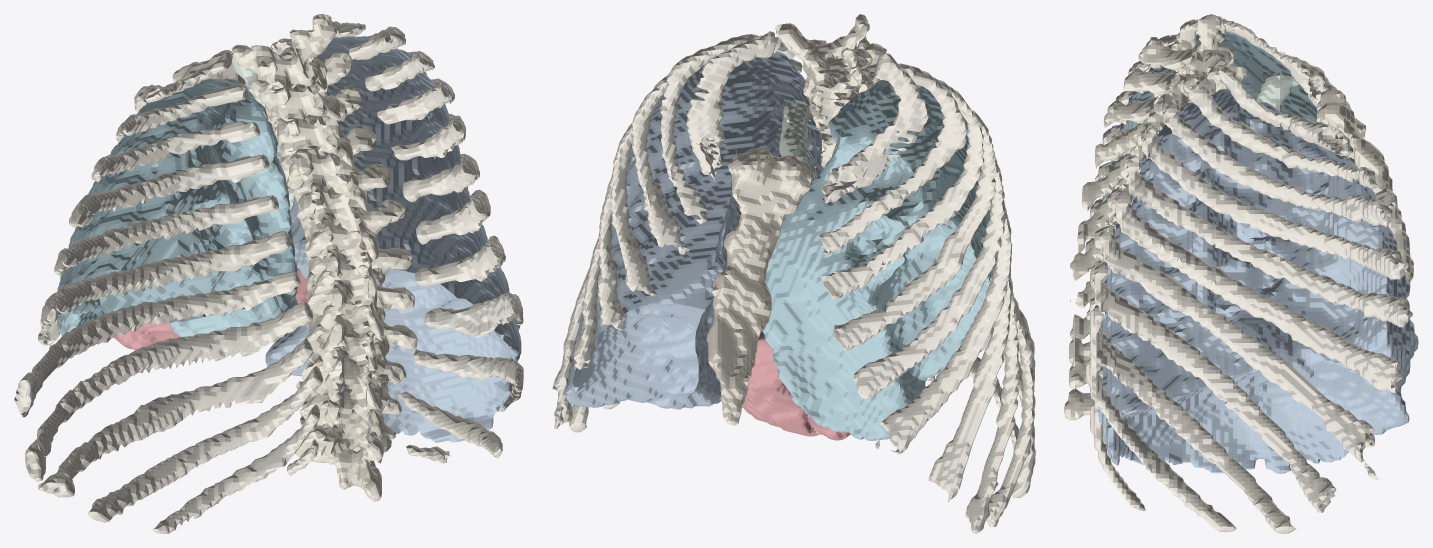
File: anatomy.glb
3 renders of one model, left to right at view 1: azimuth 30°, elevation 25°; view 2: azimuth 150°, elevation 25°; view 3: azimuth 270°, elevation 25°, orthographic. The views are drawn at different scales.
Parts seen in each view (by area): view 1: ribs, thoracic_spine, lung_right, lung_left, heart, sternum, trachea; view 2: ribs, lung_left, lung_right, sternum, thoracic_spine, heart, trachea; view 3: ribs, lung_right, thoracic_spine, sternum, lung_left, trachea.
Boxes of the visible parts, box(x1,y1,x2,y2) form: ribs: box(14, 21, 523, 533); thoracic_spine: box(231, 14, 417, 501); lung_right: box(248, 36, 521, 442); lung_left: box(57, 78, 297, 338); heart: box(113, 268, 309, 350); sternum: box(172, 50, 247, 86); trachea: box(231, 53, 294, 210); ribs: box(552, 31, 1035, 533); lung_left: box(762, 80, 995, 440); lung_right: box(564, 51, 823, 409); sternum: box(706, 146, 811, 425); thoracic_spine: box(775, 14, 886, 168); heart: box(741, 331, 850, 440); trachea: box(779, 100, 816, 181); ribs: box(1085, 14, 1412, 533); lung_right: box(1098, 89, 1418, 473); thoracic_spine: box(1064, 14, 1246, 420); sternum: box(1316, 88, 1413, 300); lung_left: box(1102, 31, 1354, 202); trachea: box(1256, 72, 1299, 112).
Bounding box in the file's own units: 330 × 310 × 249.
